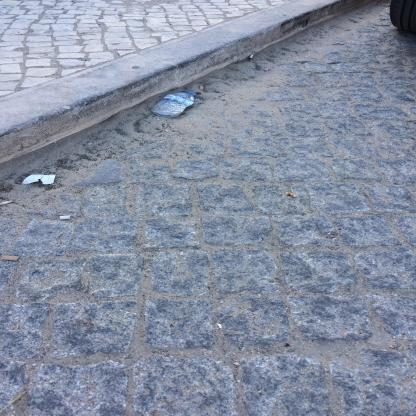plastik: (152, 91, 197, 119)
